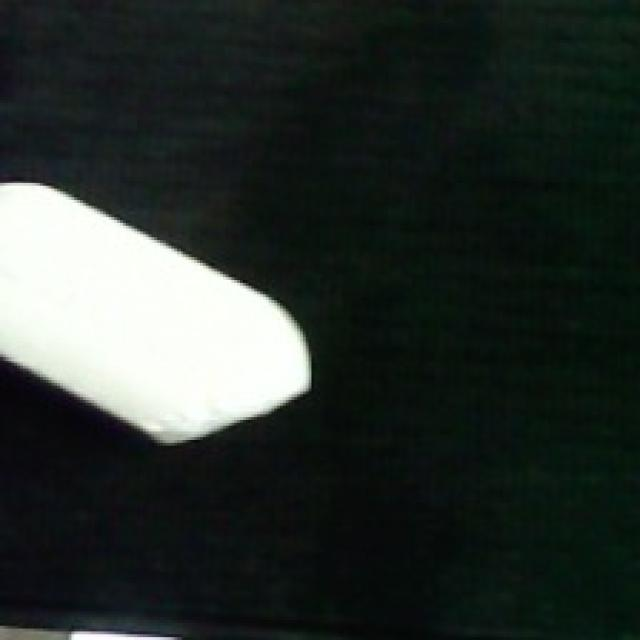defected: (0, 176, 314, 448)
